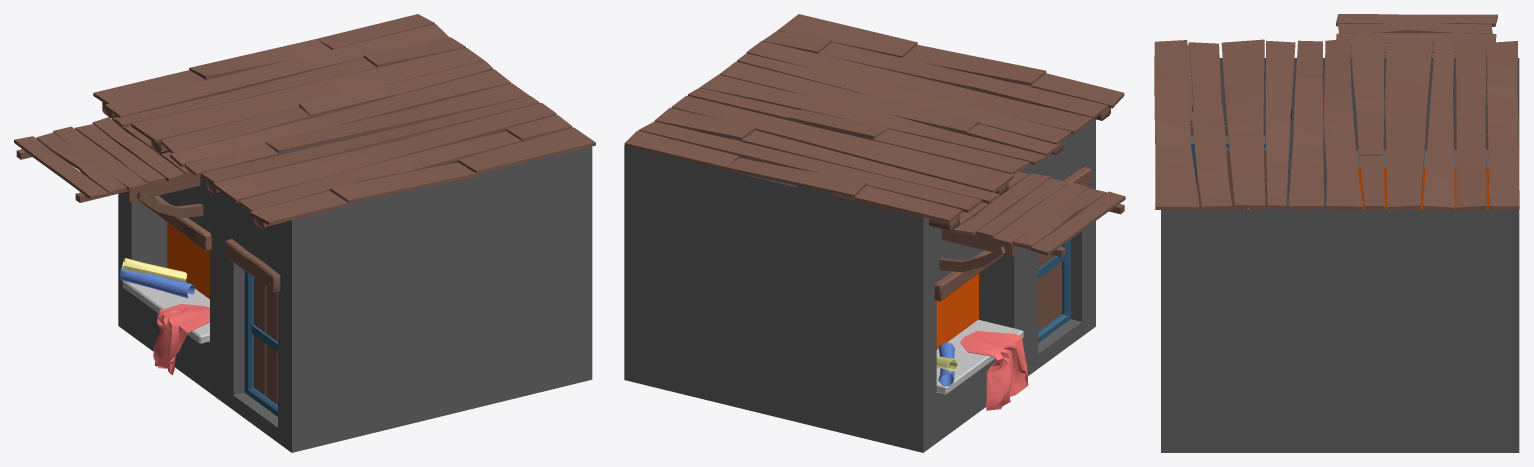
The model's file is civilian_house_45.FBX.
The picture shows the model from 3 angles, left to right: view 1: azimuth 30°, elevation 25°; view 2: azimuth 150°, elevation 25°; view 3: azimuth 270°, elevation 25°; orthographic projection. The views are drawn at different scales.
Parts seen in each view (by area): view 1: civilian_house_45_LOD0; view 2: civilian_house_45_LOD0; view 3: civilian_house_45_LOD0.
Part boxes in pixels (x1,y1,x2,y2): civilian_house_45_LOD0: (14, 14, 595, 452); civilian_house_45_LOD0: (624, 14, 1125, 452); civilian_house_45_LOD0: (1154, 14, 1519, 452).
Size of what is drawn, in the model's own units: 703 by 387 by 510.
